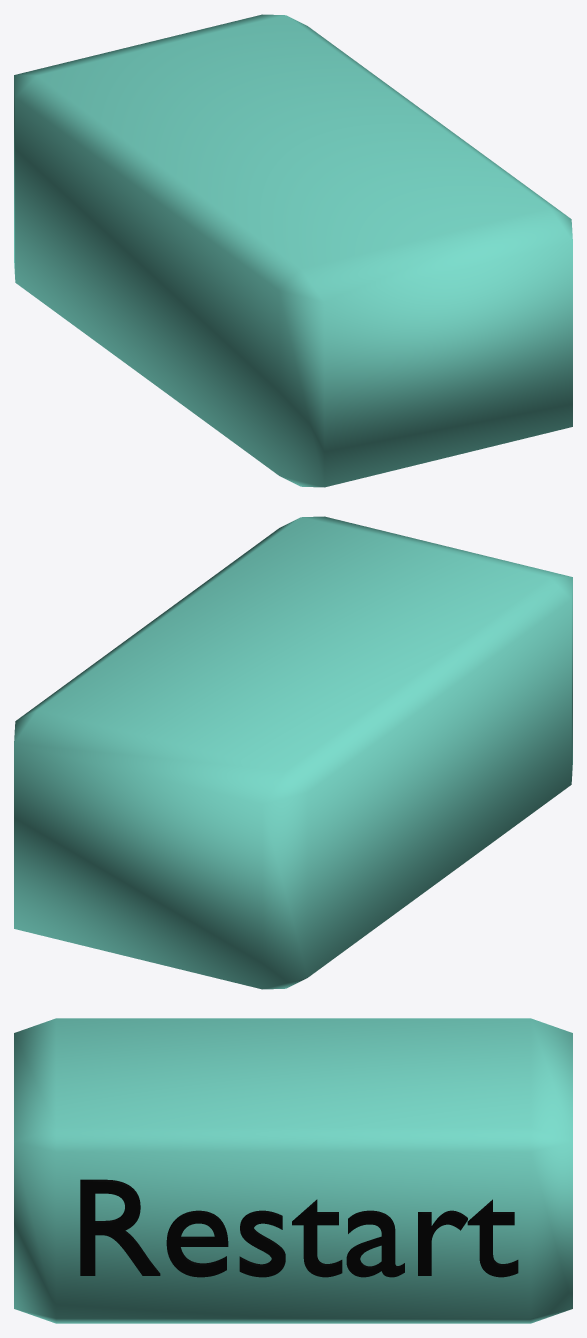
Rendered from Button.fbx.
3 views of the same model, one above another, from view 1: azimuth 30°, elevation 25°; view 2: azimuth 150°, elevation 25°; view 3: azimuth 270°, elevation 25° (orthographic). The views are drawn at different scales.
Parts seen in each view (by area): view 1: Cube; view 2: Cube; view 3: Cube, Text.
Boxes of the visible parts, <box> form: Cube: <box>14,14,572,487</box>; Cube: <box>14,516,572,989</box>; Cube: <box>14,1018,572,1323</box>; Text: <box>80,1179,518,1277</box>.
Size of the model in its own units: 2.04 by 1.42 by 3.68.
